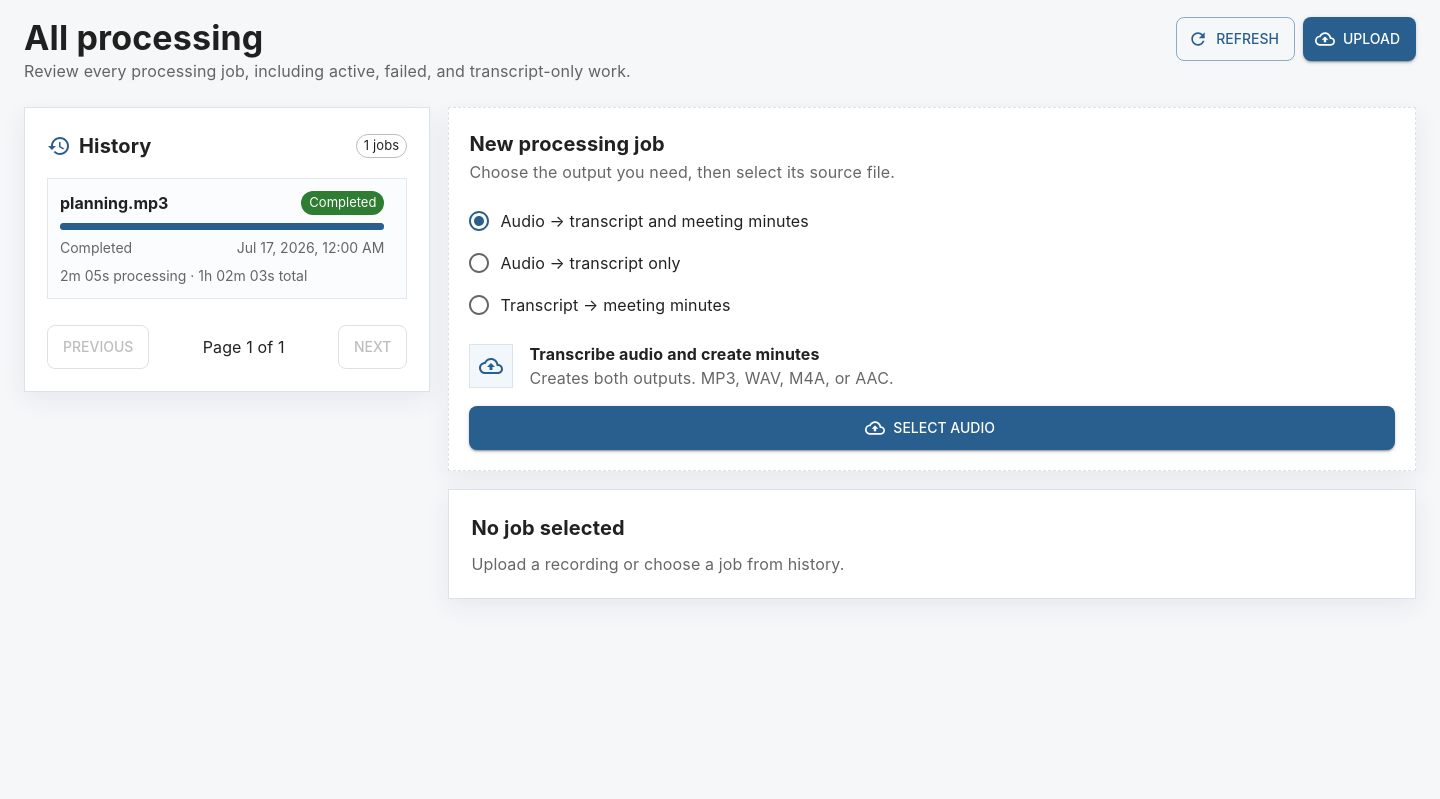
Test case: MeetingMind workflow › formats processing and total duration in history and selected details
expect the text "2m 05s processing · 1h 02m 03s total" is shown: met, box 60,267 -> 307,284
Click the button "planning.mp3": (114, 203) 60,191 -> 384,286
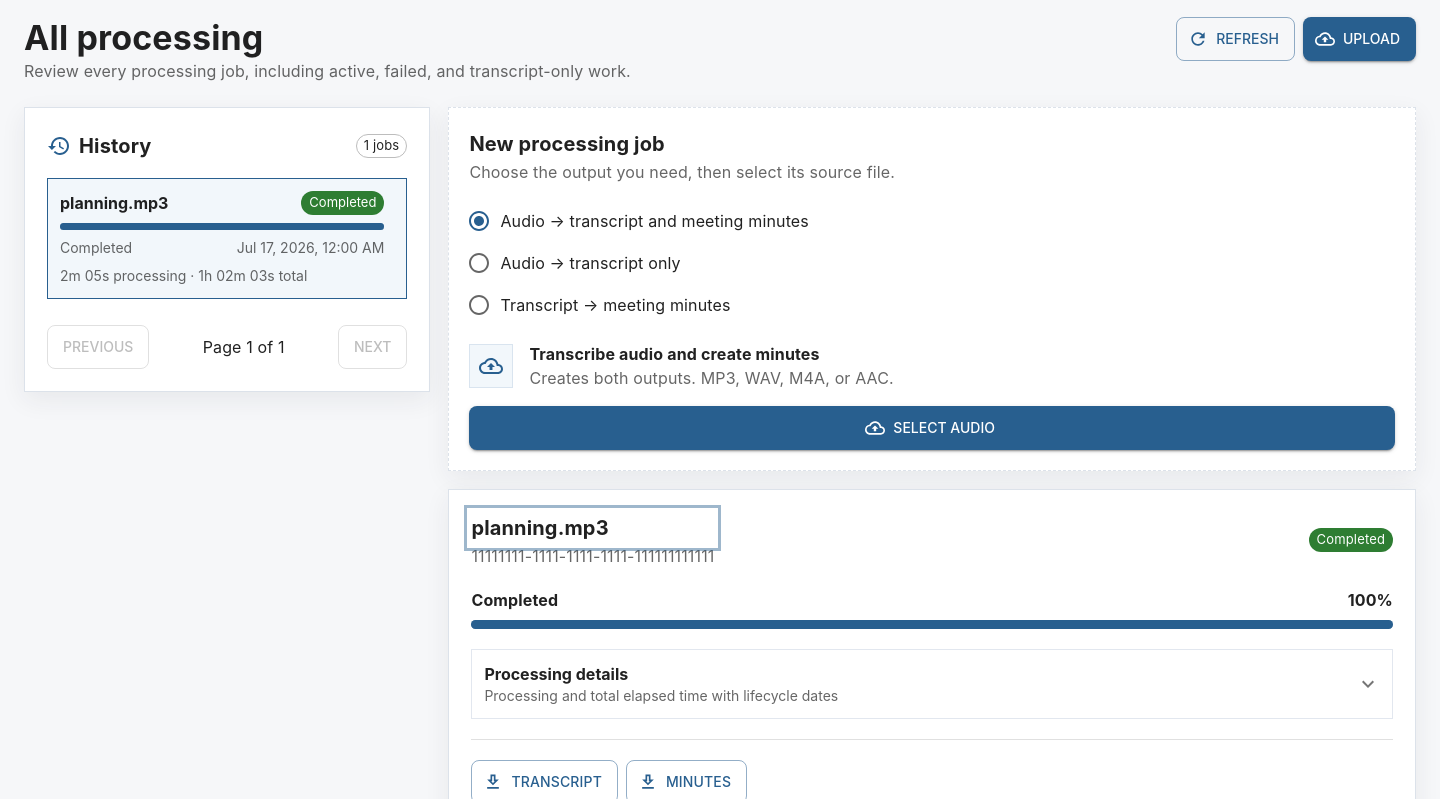
Click the button "Processing details": (556, 674) 472,650 -> 1392,718
(page scrolled)
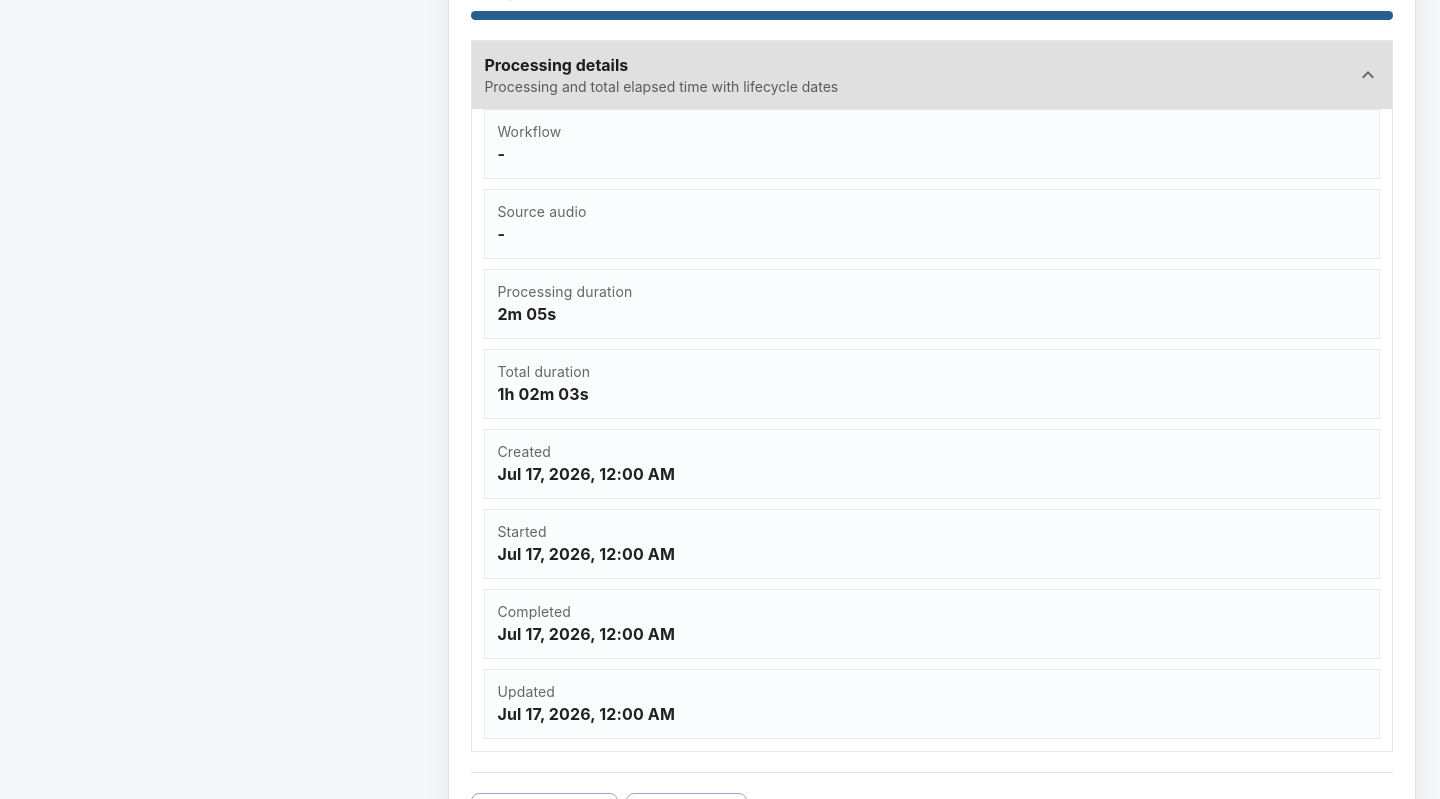
expect the text "Processing duration" is shown: met, box 497,283 -> 632,300
expect the text "Total duration" is shown: met, box 497,363 -> 590,380
expect the text "2m 05s" is shown: met, box 497,304 -> 556,324
